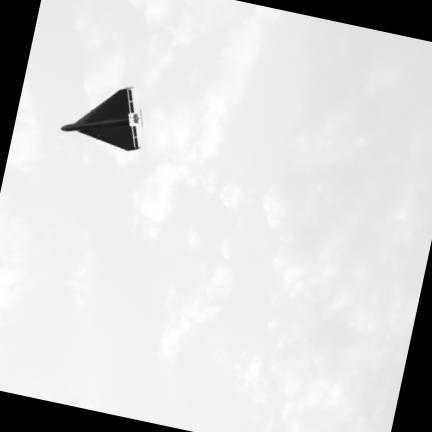Shahed: (62, 87, 143, 150)
